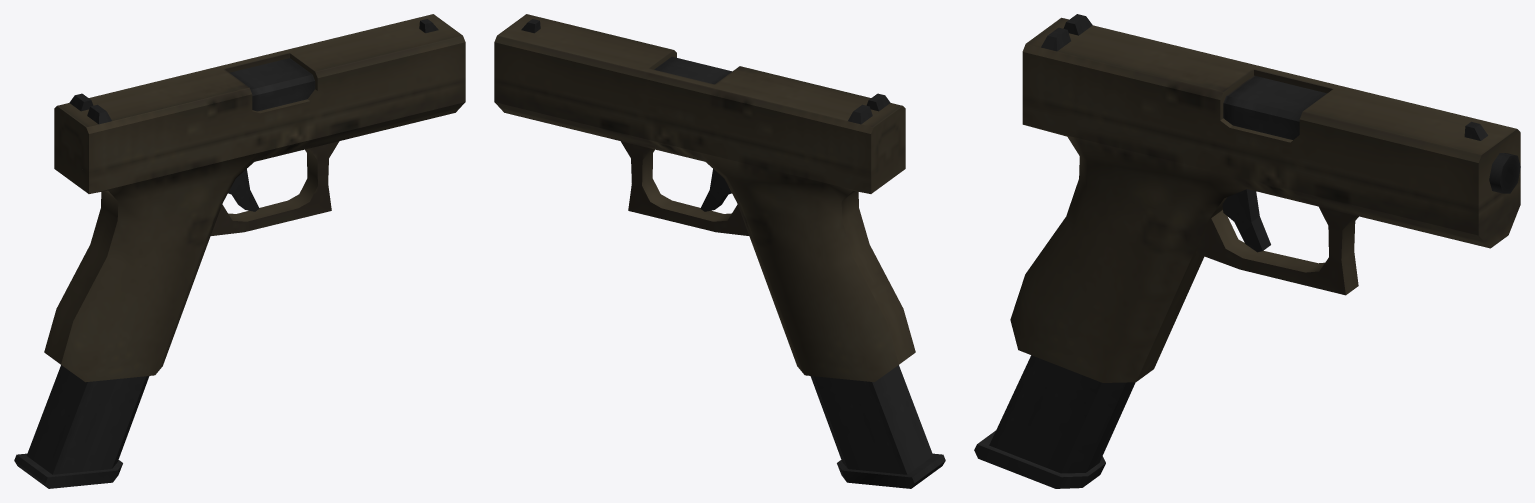
File: pistol_mp_1_1.obj
3 renders of one model, left to right at view 1: azimuth 30°, elevation 25°; view 2: azimuth 150°, elevation 25°; view 3: azimuth 330°, elevation 25°, orthographic. The views are drawn at different scales.
Visible parts, largest first — view 1: pistol_mp_1_1, pistol_mp_1_1_slide, pistol_mp_1_1_mag_initial, pistol_mp_1_1_trigger; view 2: pistol_mp_1_1, pistol_mp_1_1_slide, pistol_mp_1_1_mag_initial, pistol_mp_1_1_trigger; view 3: pistol_mp_1_1, pistol_mp_1_1_slide, pistol_mp_1_1_mag_initial, pistol_mp_1_1_trigger.
Boxes of the visible parts, x1,y1,x2,y2 form: pistol_mp_1_1: [44, 58, 465, 382]; pistol_mp_1_1_slide: [54, 14, 465, 174]; pistol_mp_1_1_mag_initial: [14, 365, 149, 488]; pistol_mp_1_1_trigger: [228, 169, 259, 211]; pistol_mp_1_1: [494, 56, 915, 382]; pistol_mp_1_1_slide: [494, 14, 905, 174]; pistol_mp_1_1_mag_initial: [810, 365, 945, 488]; pistol_mp_1_1_trigger: [700, 169, 731, 211]; pistol_mp_1_1: [1010, 75, 1520, 382]; pistol_mp_1_1_slide: [1022, 14, 1520, 211]; pistol_mp_1_1_mag_initial: [974, 355, 1135, 488]; pistol_mp_1_1_trigger: [1222, 189, 1270, 252].
Size of the model in its own units: 0.2842 by 0.2359 by 0.04.
